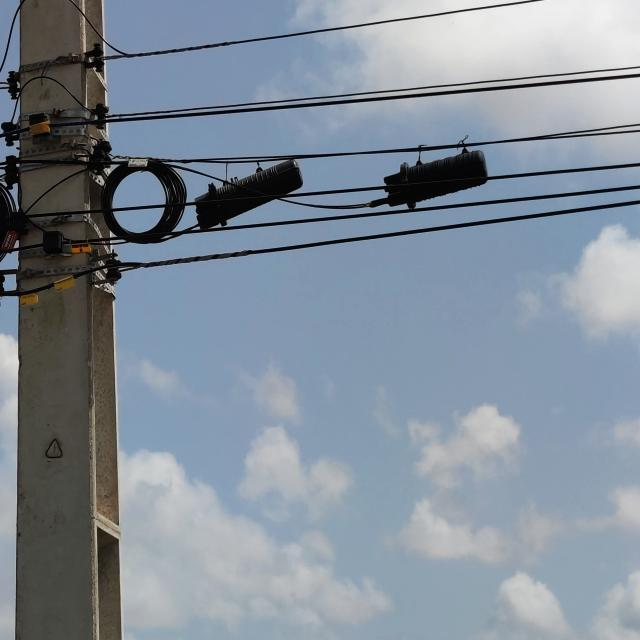Plaqueta: (1, 230, 18, 253)
